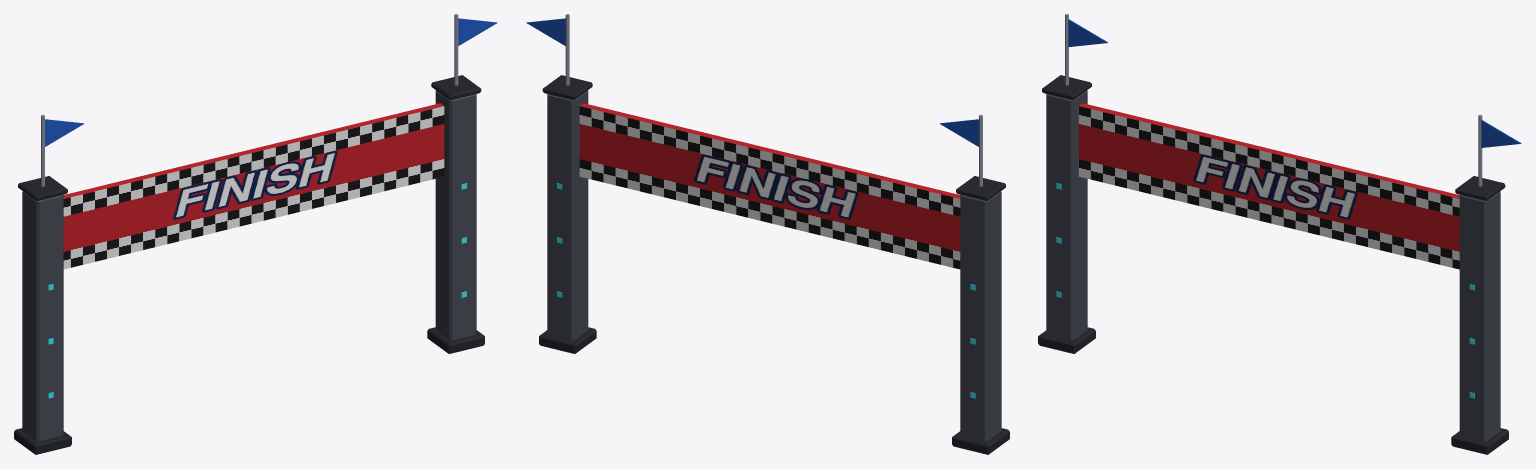
File: gate_finish.obj
3 views of the same model, side by side, from view 1: azimuth 30°, elevation 25°; view 2: azimuth 150°, elevation 25°; view 3: azimuth 330°, elevation 25° (orthographic).
Visible parts, largest first — view 1: gate_finish_gate_finish_banner, gate_finish_Main; view 2: gate_finish_gate_finish_banner, gate_finish_Main; view 3: gate_finish_gate_finish_banner, gate_finish_Main.
Boxes of the visible parts, x1,y1,x2,y2 form: gate_finish_gate_finish_banner: (63, 103, 444, 269); gate_finish_Main: (14, 14, 497, 454); gate_finish_gate_finish_banner: (579, 103, 960, 269); gate_finish_Main: (526, 14, 1009, 454); gate_finish_gate_finish_banner: (1078, 103, 1459, 269); gate_finish_Main: (1038, 14, 1521, 454).
Size of the model in its own units: 27.5 by 18.2 by 2.2.
Materials: 2 (2 with a texture image).
